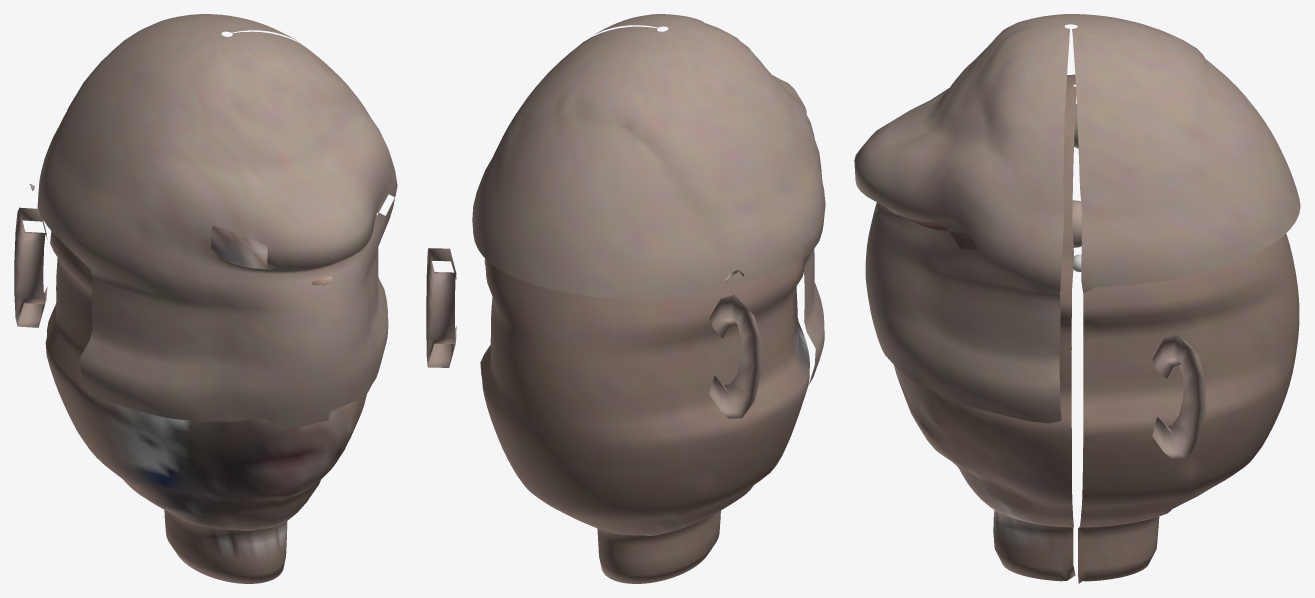
File: avatar_v2_c92198ff.glb
3 views of the same model, side by side, from view 1: azimuth 30°, elevation 25°; view 2: azimuth 150°, elevation 25°; view 3: azimuth 270°, elevation 25° (orthographic).
Visible parts, largest first — view 1: world; view 2: world; view 3: world.
Part boxes in pixels (left/top/right/bottom): world: left=14, top=14, right=397, bottom=583; world: left=426, top=14, right=825, bottom=583; world: left=854, top=14, right=1300, bottom=583.
Size of the model in its own units: 0.1037 by 0.1518 by 0.1148.
